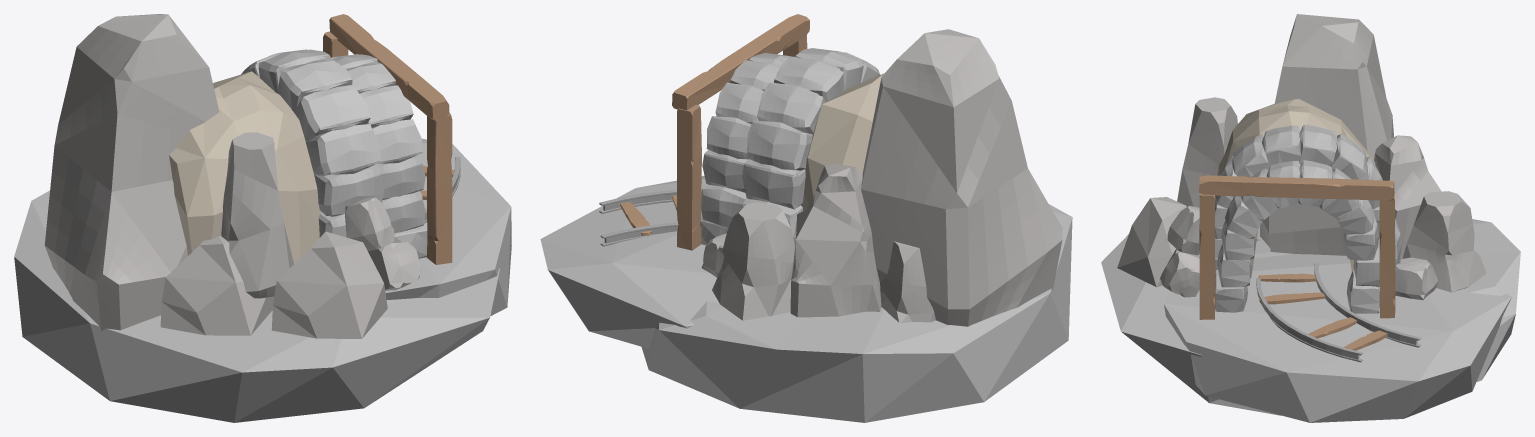
Rendered from Mine.fbx.
3 views of the same model, side by side, from view 1: azimuth 30°, elevation 25°; view 2: azimuth 150°, elevation 25°; view 3: azimuth 270°, elevation 25° (orthographic). The views are drawn at different scales.
Visible parts, largest first — view 1: stone_mine_4; view 2: stone_mine_4; view 3: stone_mine_4.
Boxes of the visible parts, left/top/right/bottom form: stone_mine_4: left=14, top=14, right=511, bottom=422; stone_mine_4: left=540, top=14, right=1072, bottom=422; stone_mine_4: left=1101, top=14, right=1520, bottom=422.
Bounding box in the file's own units: 76.5 × 53.27 × 73.53.
